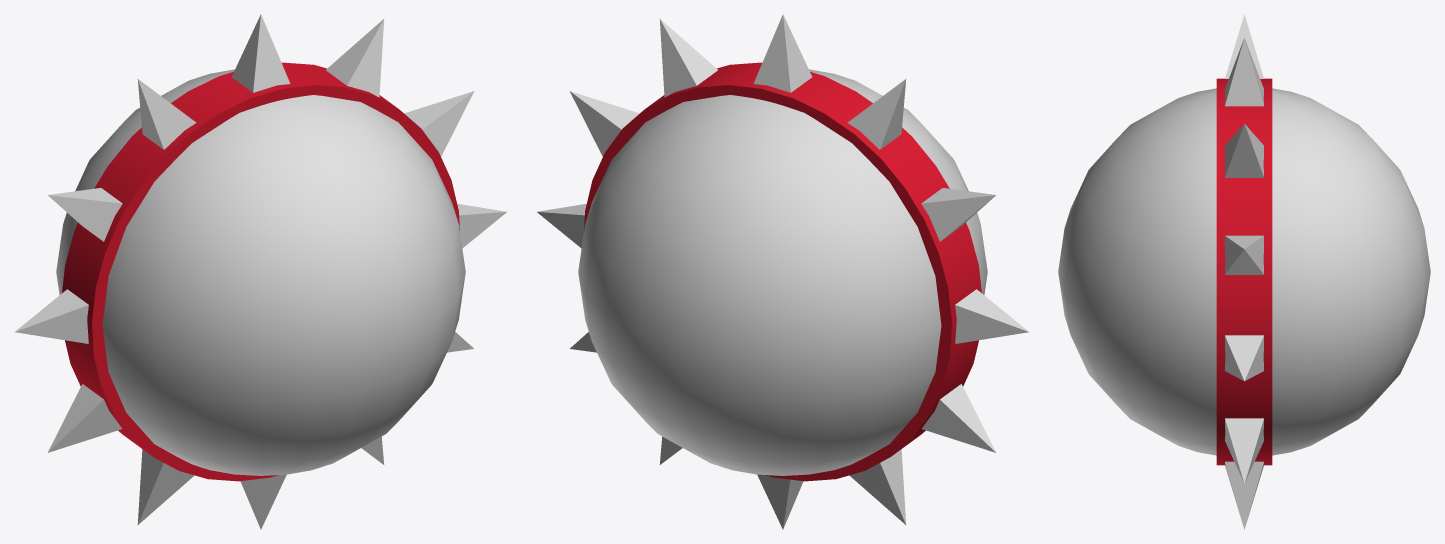
The model's file is Trap_ball.fbx.
3 views of the same model, side by side, from view 1: azimuth 30°, elevation 25°; view 2: azimuth 150°, elevation 25°; view 3: azimuth 270°, elevation 25° (orthographic). The views are drawn at different scales.
Parts seen in each view (by area): view 1: Sphère, Tube, Pyramide_12, Pyramide_4, Pyramide_6, Pyramide, Pyramide_8, Pyramide_10, Pyramide_2, Pyramide_3, Pyramide_11, Pyramide_5; view 2: Sphère, Tube, Pyramide_12, Pyramide_4, Pyramide_6, Pyramide, Pyramide_8, Pyramide_10, Pyramide_2, Pyramide_3, Pyramide_11, Pyramide_5; view 3: Sphère, Tube, Pyramide_7, Pyramide_12, Pyramide, Pyramide_5, Pyramide_3, Pyramide_9, Pyramide_10.
Part boxes in pixels (<box>): Sphère: <box>56,69,465,475</box>; Tube: <box>62,62,459,481</box>; Pyramide_12: <box>231,14,290,92</box>; Pyramide_4: <box>47,384,122,452</box>; Pyramide_6: <box>15,289,88,343</box>; Pyramide: <box>326,19,384,97</box>; Pyramide_8: <box>48,188,122,241</box>; Pyramide_10: <box>137,79,196,149</box>; Pyramide_2: <box>137,449,194,524</box>; Pyramide_3: <box>404,91,474,156</box>; Pyramide_11: <box>240,474,286,529</box>; Pyramide_5: <box>457,204,506,248</box>; Sphère: <box>578,69,987,475</box>; Tube: <box>584,62,981,481</box>; Pyramide_12: <box>753,14,812,92</box>; Pyramide_4: <box>921,384,996,452</box>; Pyramide_6: <box>955,289,1028,343</box>; Pyramide: <box>659,19,717,97</box>; Pyramide_8: <box>921,188,995,241</box>; Pyramide_10: <box>847,79,906,149</box>; Pyramide_2: <box>849,449,906,524</box>; Pyramide_3: <box>569,91,639,156</box>; Pyramide_11: <box>757,474,803,529</box>; Pyramide_5: <box>537,204,586,248</box>; Sphère: <box>1058,88,1430,455</box>; Tube: <box>1216,78,1272,465</box>; Pyramide_7: <box>1225,418,1263,483</box>; Pyramide_12: <box>1225,37,1263,106</box>; Pyramide: <box>1225,123,1263,177</box>; Pyramide_5: <box>1225,335,1263,381</box>; Pyramide_3: <box>1224,235,1264,274</box>; Pyramide_9: <box>1225,461,1263,529</box>; Pyramide_10: <box>1225,14,1263,78</box>.
Size of the model in its own units: 278 by 278 by 200.
